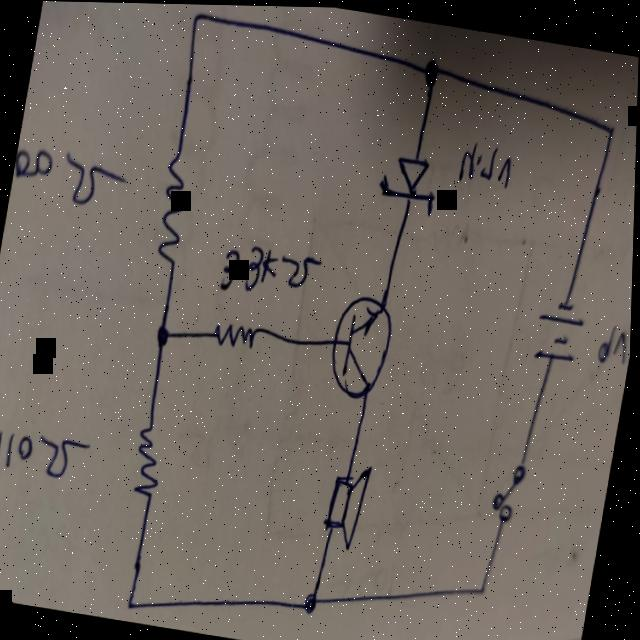diode: (374, 148, 441, 215)
junction: (418, 57, 440, 94), (303, 587, 322, 615), (154, 322, 172, 351), (188, 5, 203, 30), (476, 574, 492, 597), (604, 118, 618, 140), (128, 593, 139, 612)
resistor: (151, 161, 192, 271), (130, 423, 168, 503), (212, 317, 260, 353)
source: (531, 294, 587, 363)
switch: (490, 457, 531, 524)
text: (7, 141, 135, 232), (218, 234, 326, 305), (0, 421, 96, 487), (455, 136, 516, 193), (597, 322, 631, 364)
transistor: (325, 291, 398, 401)
